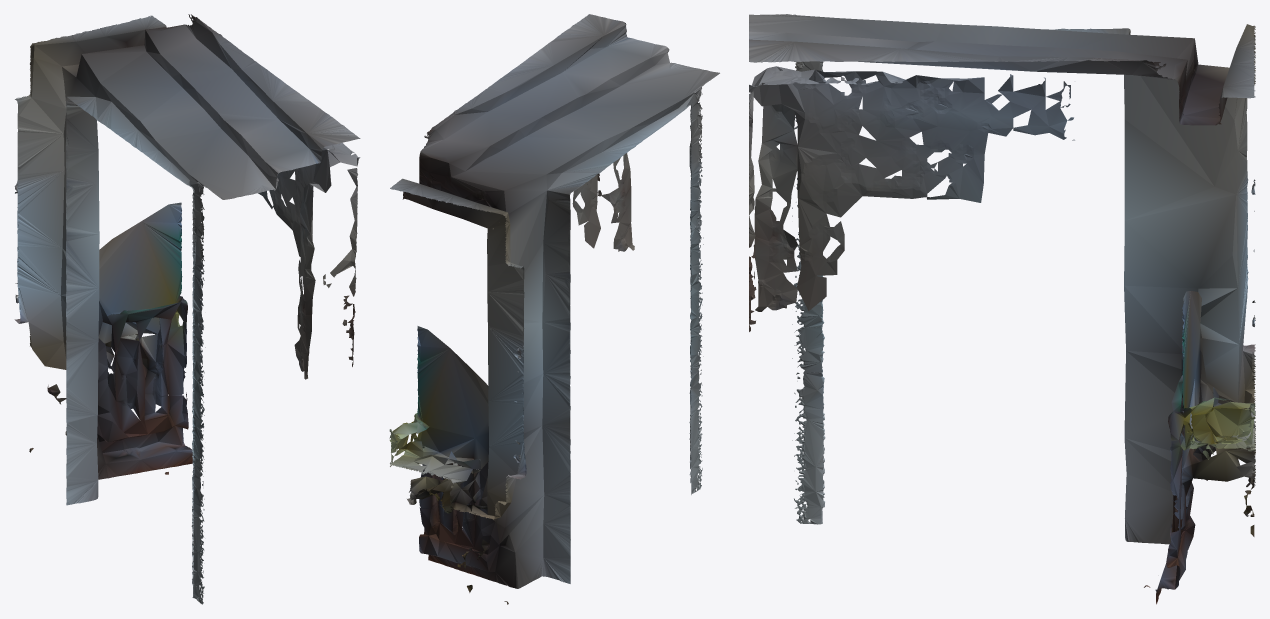
The model's file is coarse.glb.
3 renders of one model, left to right at view 1: azimuth 30°, elevation 25°; view 2: azimuth 150°, elevation 25°; view 3: azimuth 270°, elevation 25°, orthographic. The views are drawn at different scales.
Size of the model in its own units: 0.95 by 2.97 by 2.5.
